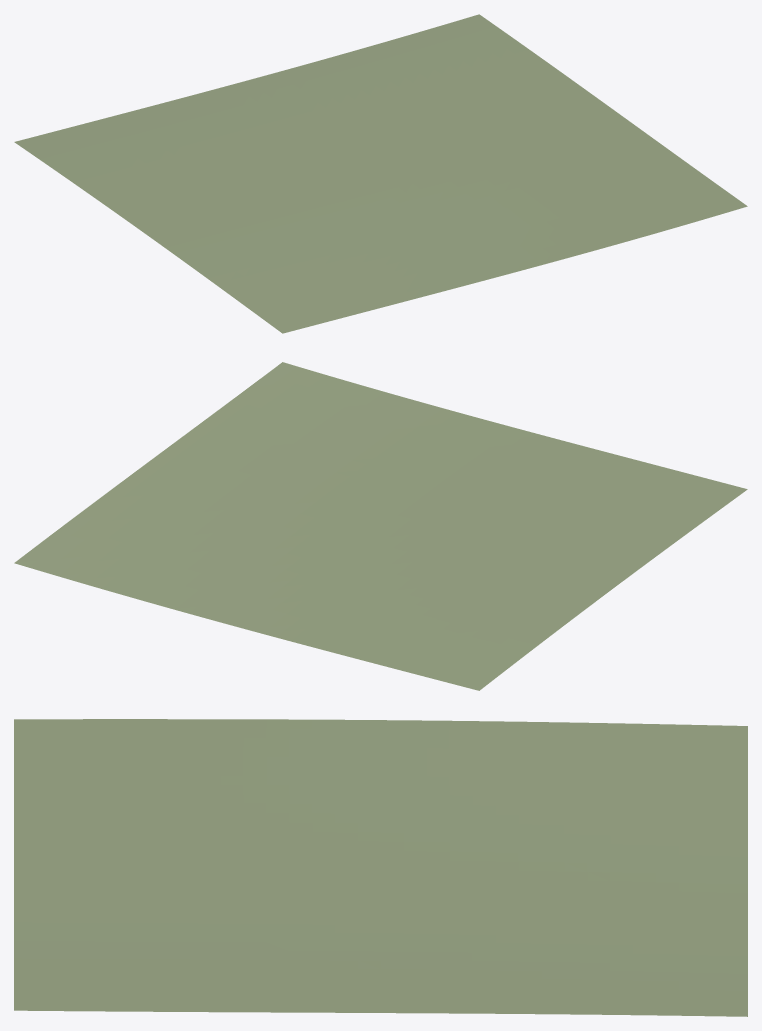
The model's file is expanse-19-11.glb.
The picture shows the model from 3 angles, top to bottom: view 1: azimuth 30°, elevation 25°; view 2: azimuth 150°, elevation 25°; view 3: azimuth 270°, elevation 25°; orthographic projection. The views are drawn at different scales.
Parts seen in each view (by area): view 1: expanse-19-11; view 2: expanse-19-11; view 3: expanse-19-11.
Boxes of the visible parts, x1,y1,x2,y2 form: expanse-19-11: (14,14,747,333); expanse-19-11: (14,362,747,690); expanse-19-11: (14,719,747,1016).
Bounding box in the file's own units: 256 × 9.84 × 256.
